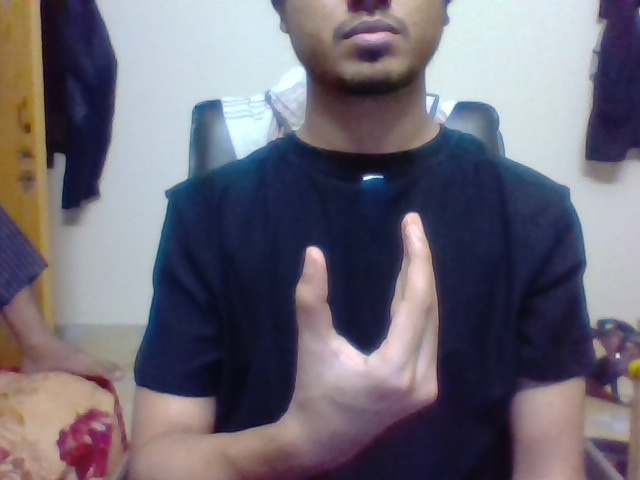U: (273, 197, 469, 382)
